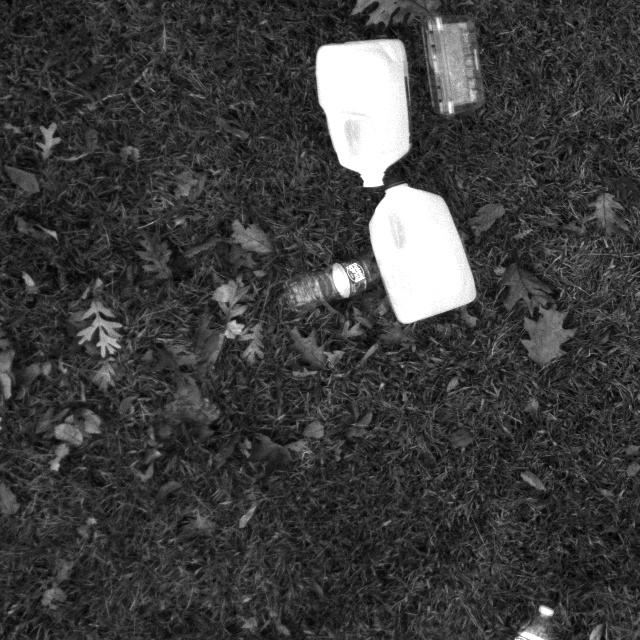bottle: (285, 249, 384, 318)
can: (358, 176, 484, 337), (318, 33, 411, 197)
container: (422, 6, 489, 126)
